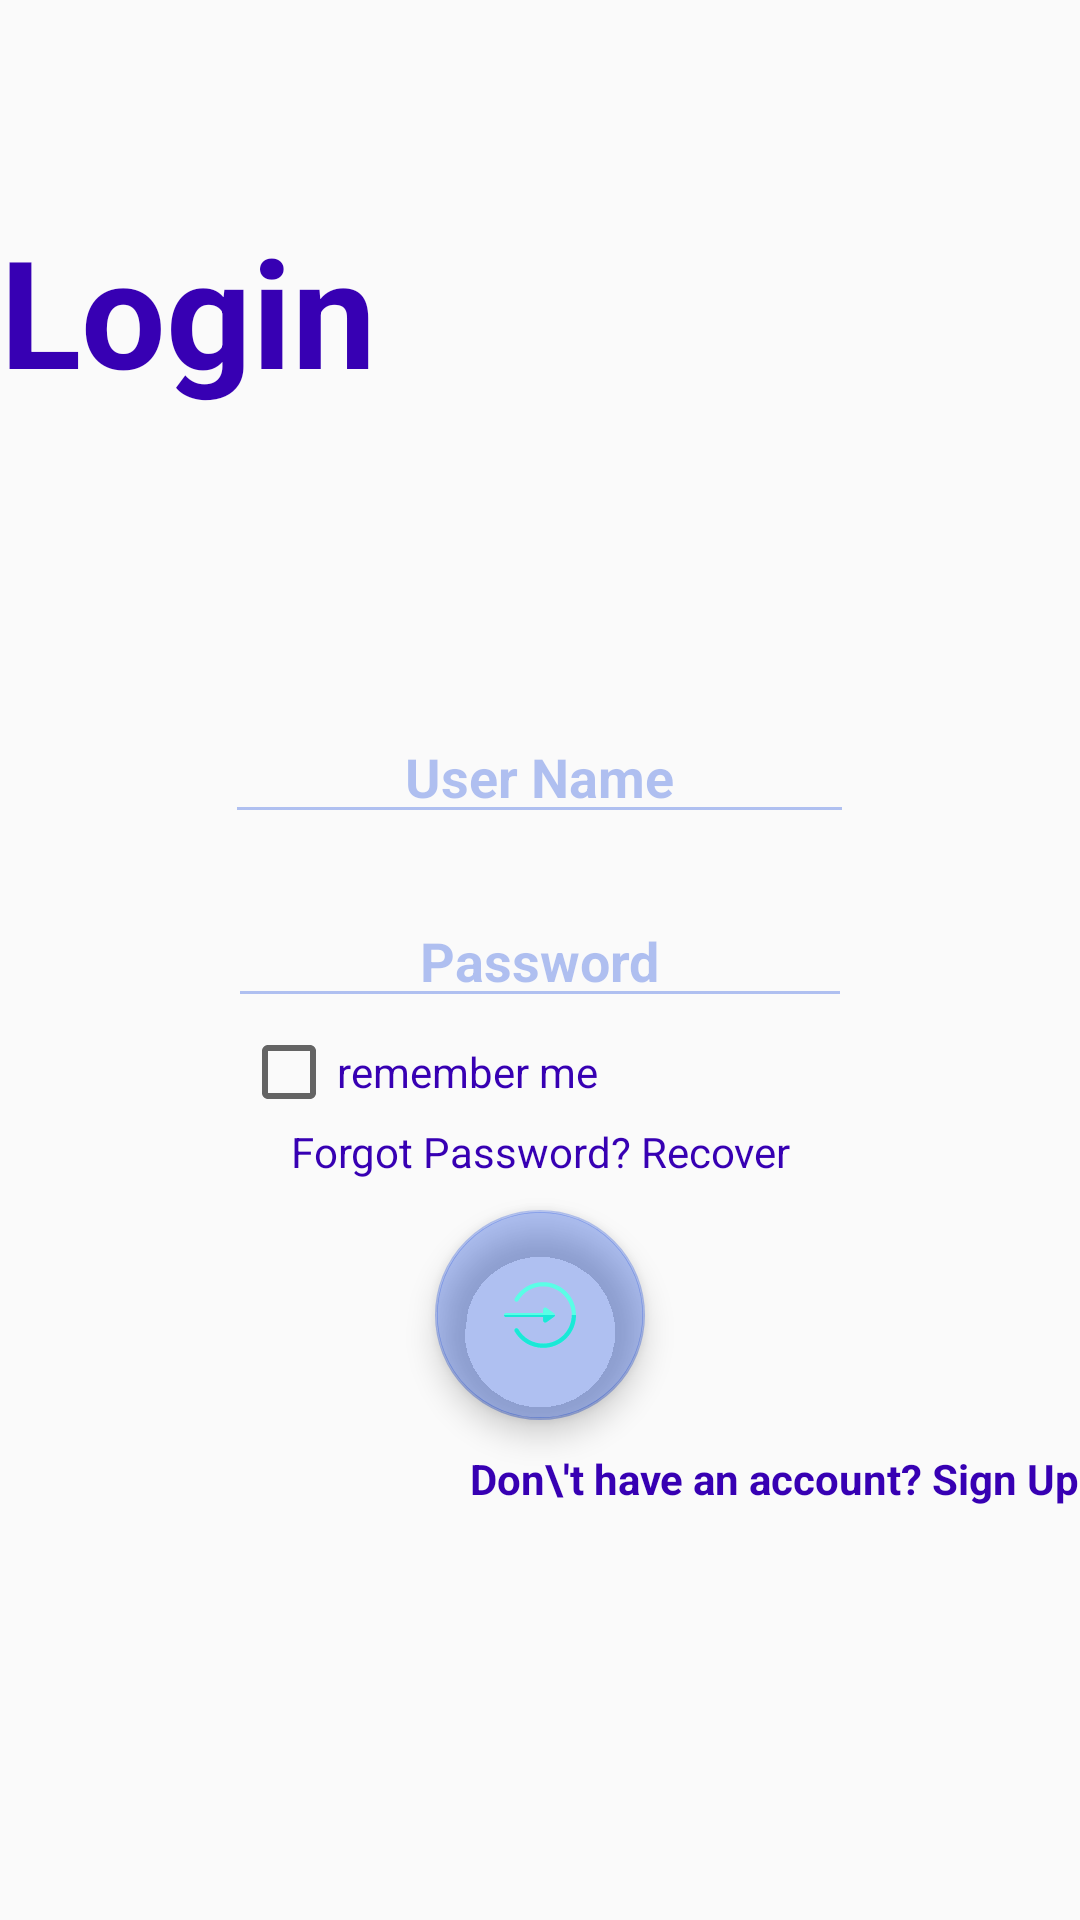

Screen size 1080px×1920px. Icon name, then its center in pixels as (x,y):
loginbutton: (540,1315)
